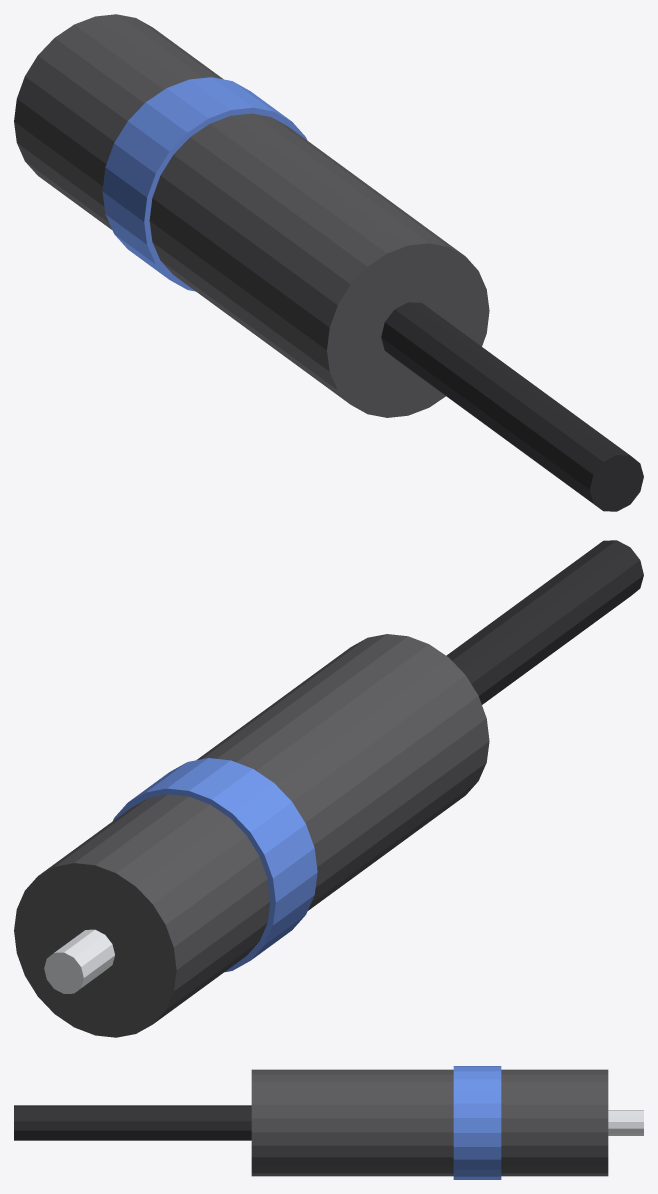
The model's file is mc4-male.glb.
3 renders of one model, top to bottom at view 1: azimuth 30°, elevation 25°; view 2: azimuth 150°, elevation 25°; view 3: azimuth 270°, elevation 25°, orthographic. The views are drawn at different scales.
Parts seen in each view (by area): view 1: plug_body, cable, plug_band; view 2: plug_body, cable, plug_band, pin; view 3: plug_body, cable, plug_band, pin.
Part boxes in pixels (<box>): plug_body: <box>14,14,489,417</box>; cable: <box>381,302,643,511</box>; plug_band: <box>102,77,307,291</box>; plug_body: <box>14,634,489,1037</box>; cable: <box>446,540,643,704</box>; plug_band: <box>113,758,317,972</box>; pin: <box>44,929,114,993</box>; plug_body: <box>251,1069,608,1176</box>; cable: <box>14,1105,251,1140</box>; plug_band: <box>453,1066,501,1179</box>; pin: <box>608,1110,643,1135</box>.
Size of the model in its own units: 0.0192 by 0.0192 by 0.106.
